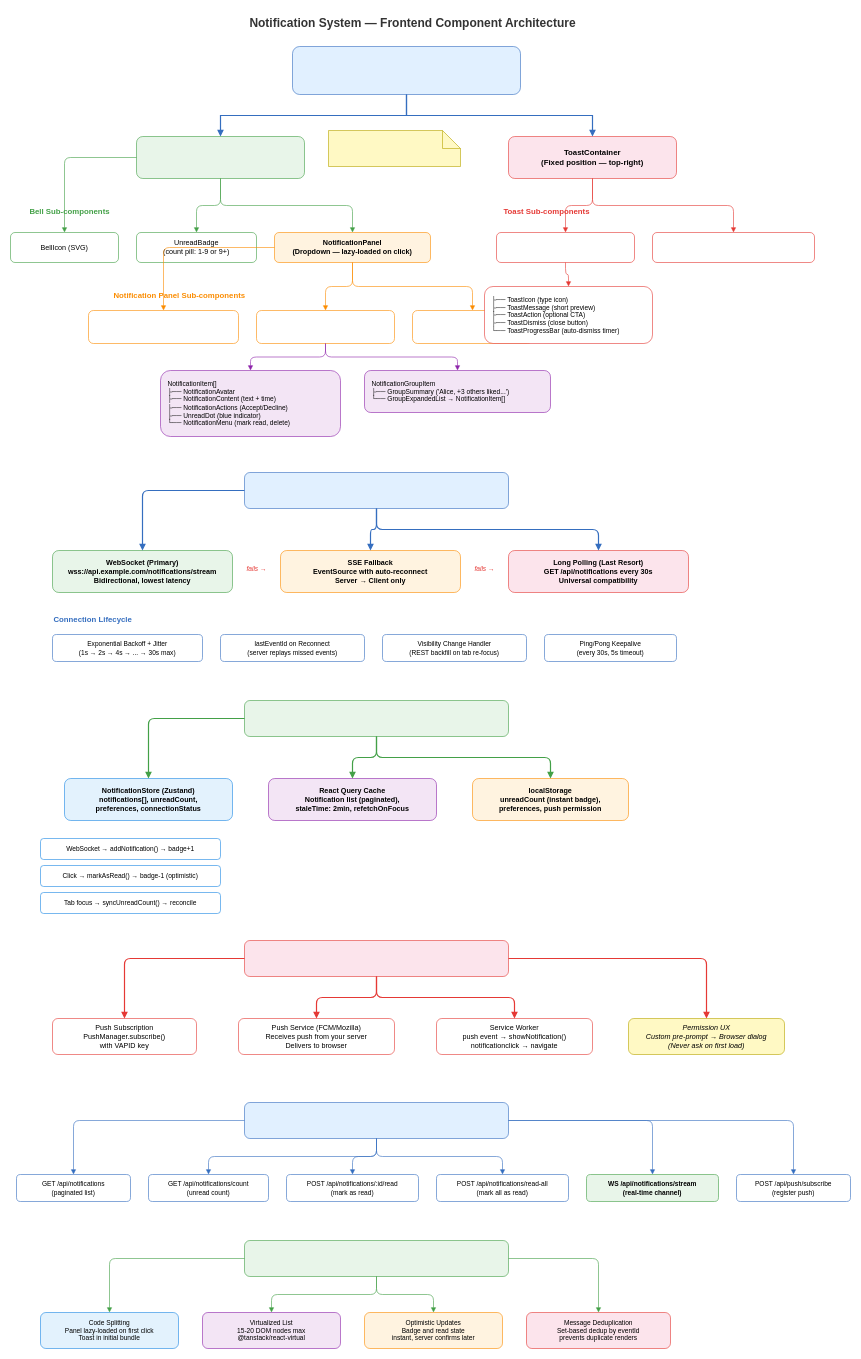
Some shapes in this 861 by 1359 pixel diagram are drawn without their labels. Here are the shapes that lost their labels. From the top down, the centre of each, then its label:
(406,70): AppShell — Global layout (Header + Content)
(220,157): NotificationBell (Header icon + Unread Badge)
(394,148): WebSocket delivers events → updates bell badge + shows toasts
(565,247): ToastItem[] (animated stack — max 3 visible)
(733,247): ToastQueue (FIFO + priority + groupKey aggregation)
(163,327): PanelHeader (Title + FilterTabs + MarkAllRead)
(325,327): NotificationList (Scrollable, Virtualized)
(472,327): EmptyState ('No notifications yet')
(376,490): Real-Time Transport Layer — Fallback Chain
(376,718): State Management and Data Flow
(376,958): Web Push Notifications (Service Worker)
(376,1120): API Endpoints
(376,1258): Performance Optimization
